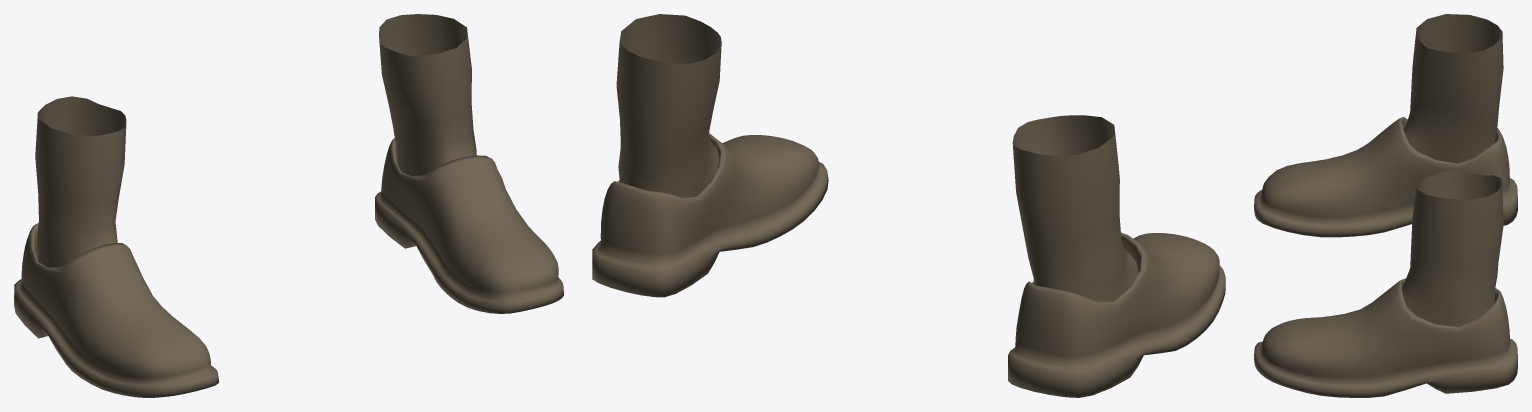
File: shoes01.glb
The picture shows the model from 3 angles, left to right: view 1: azimuth 30°, elevation 25°; view 2: azimuth 150°, elevation 25°; view 3: azimuth 270°, elevation 25°; orthographic projection. The views are drawn at different scales.
Visible parts, largest first — view 1: shoes01; view 2: shoes01; view 3: shoes01.
Part boxes in pixels (x1=…): shoes01: x1=14, y1=14, x2=563, y2=397; shoes01: x1=592, y1=14, x2=1225, y2=397; shoes01: x1=1254, y1=14, x2=1517, y2=397.
Bounding box in the file's own units: 0.4881 × 0.2112 × 0.2664.
